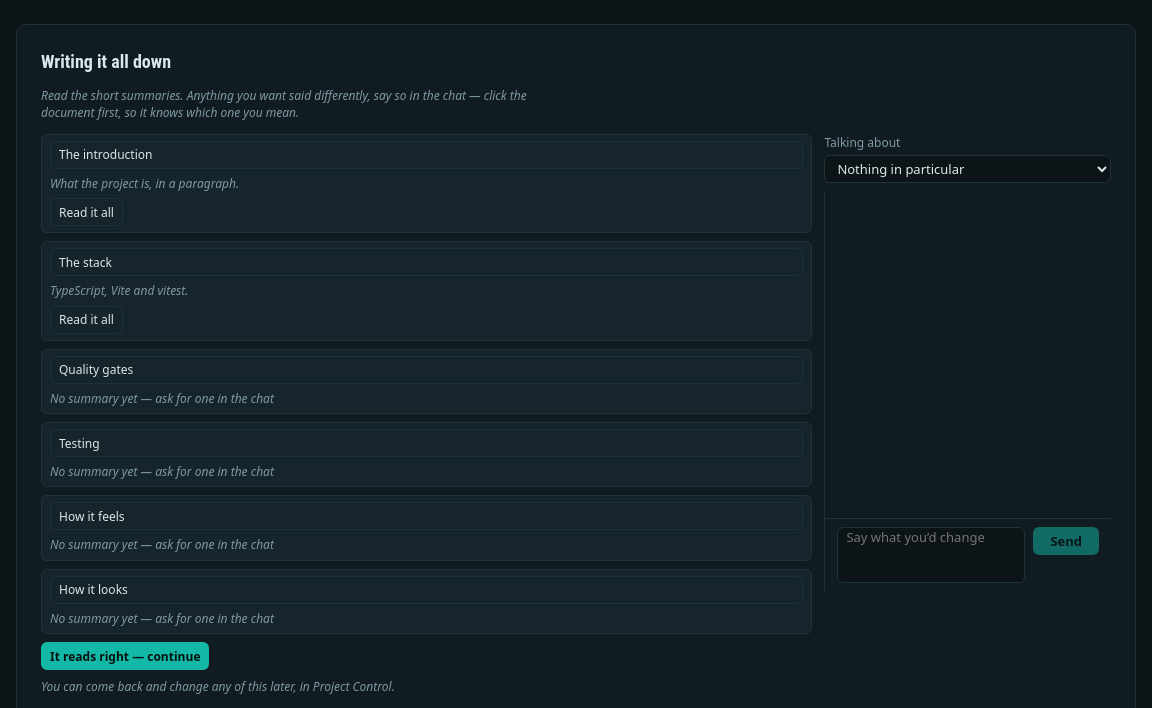
it: the docs step › resuming with the summaries already filed › moves on without a turn when the person says it reads right, and writes the step
The image size is (1152, 708).
What coordinates should you click on to do the following:
click the button "It reads right — continue"
I would click on:
 (125, 656)
Its box is [41,642,210,670].
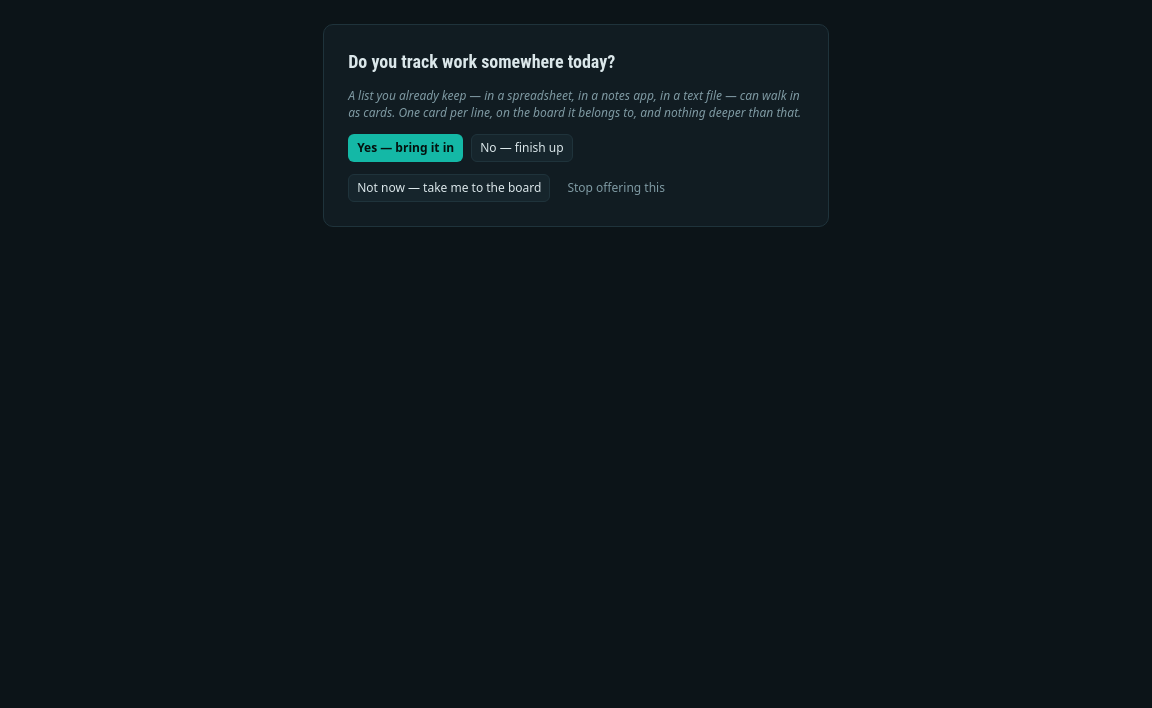
Now the heading "Do you track work somewhere today?" is shown, box [348,51,615,72]
